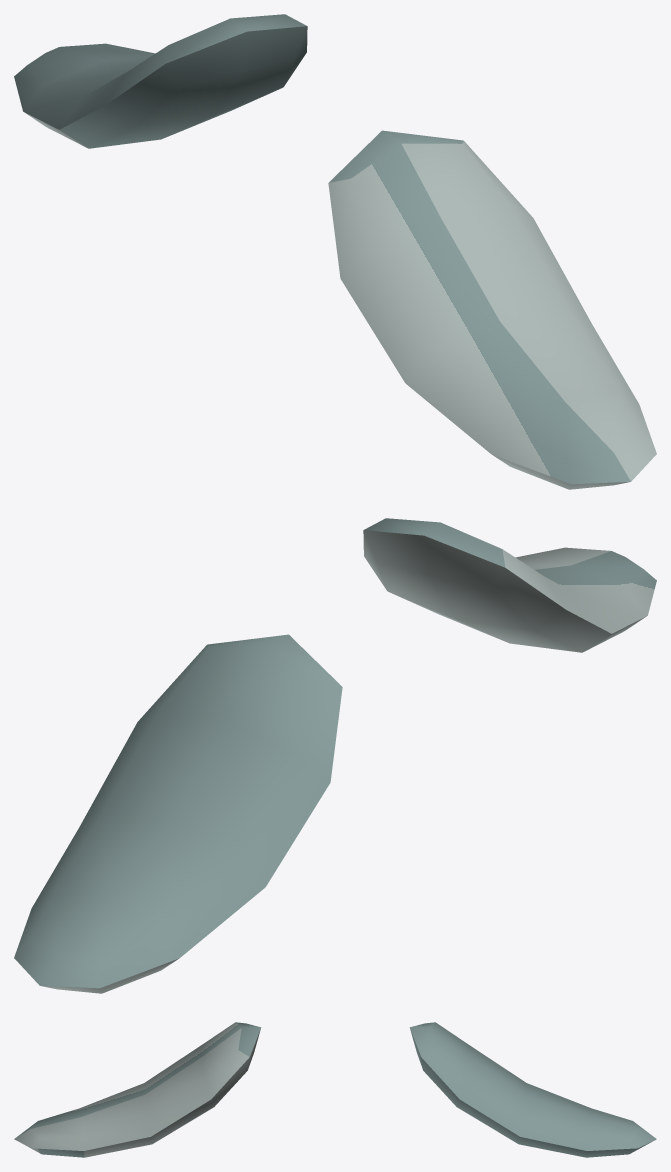
The model's file is graysealflipper.fbx.
3 renders of one model, top to bottom at view 1: azimuth 30°, elevation 25°; view 2: azimuth 150°, elevation 25°; view 3: azimuth 270°, elevation 25°, orthographic. The views are drawn at different scales.
Visible parts, largest first — view 1: flippers; view 2: flippers; view 3: flippers.
Part boxes in pixels (bbox=[...]): flippers: bbox=[14, 14, 656, 489]; flippers: bbox=[14, 518, 656, 993]; flippers: bbox=[14, 1022, 656, 1157].
Bounding box in the file's own units: 83.51 × 83.88 × 421.
